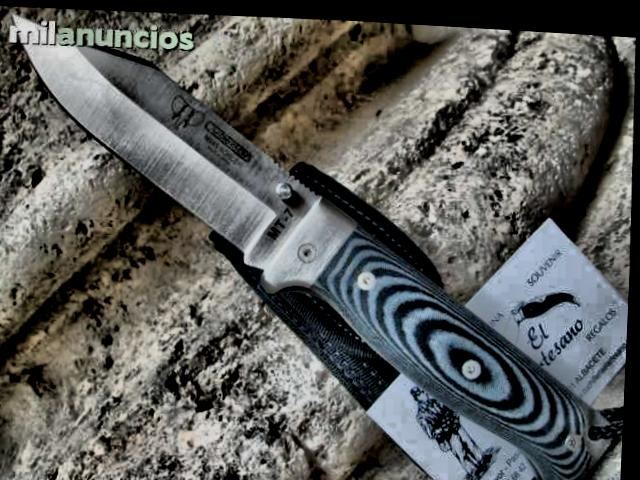knife: (0, 0, 400, 323)
